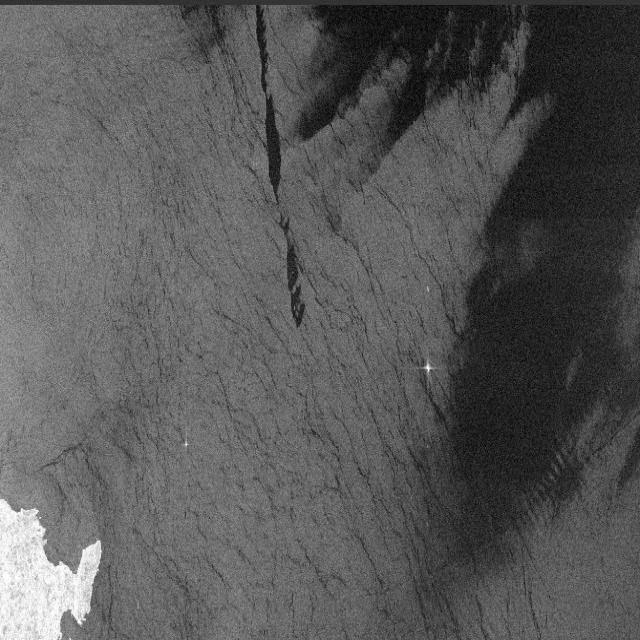look-alike: (450, 192, 634, 576), (325, 10, 513, 171)
oil-spill: (245, 7, 317, 340)
